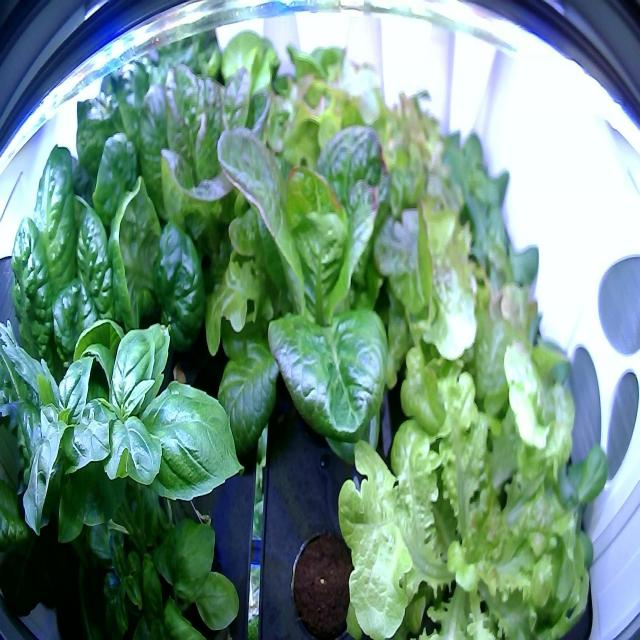Ready: (192, 114, 412, 482)
pod: (284, 523, 364, 638)
